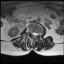CCS_normal: (33, 30, 35, 40)
LFS_normal: (37, 30, 40, 37)
LLS_normal: (35, 30, 37, 38)
RFS_normal: (29, 28, 31, 36)
RLS_normal: (31, 29, 33, 37)
